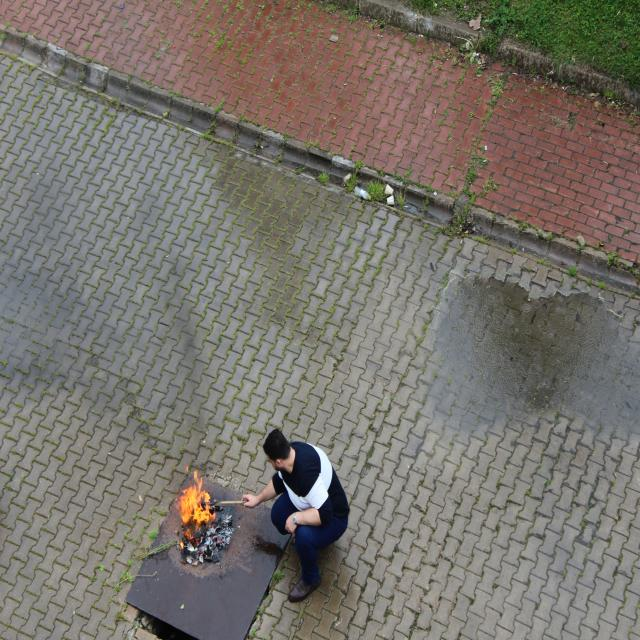fire: (166, 469, 220, 528)
